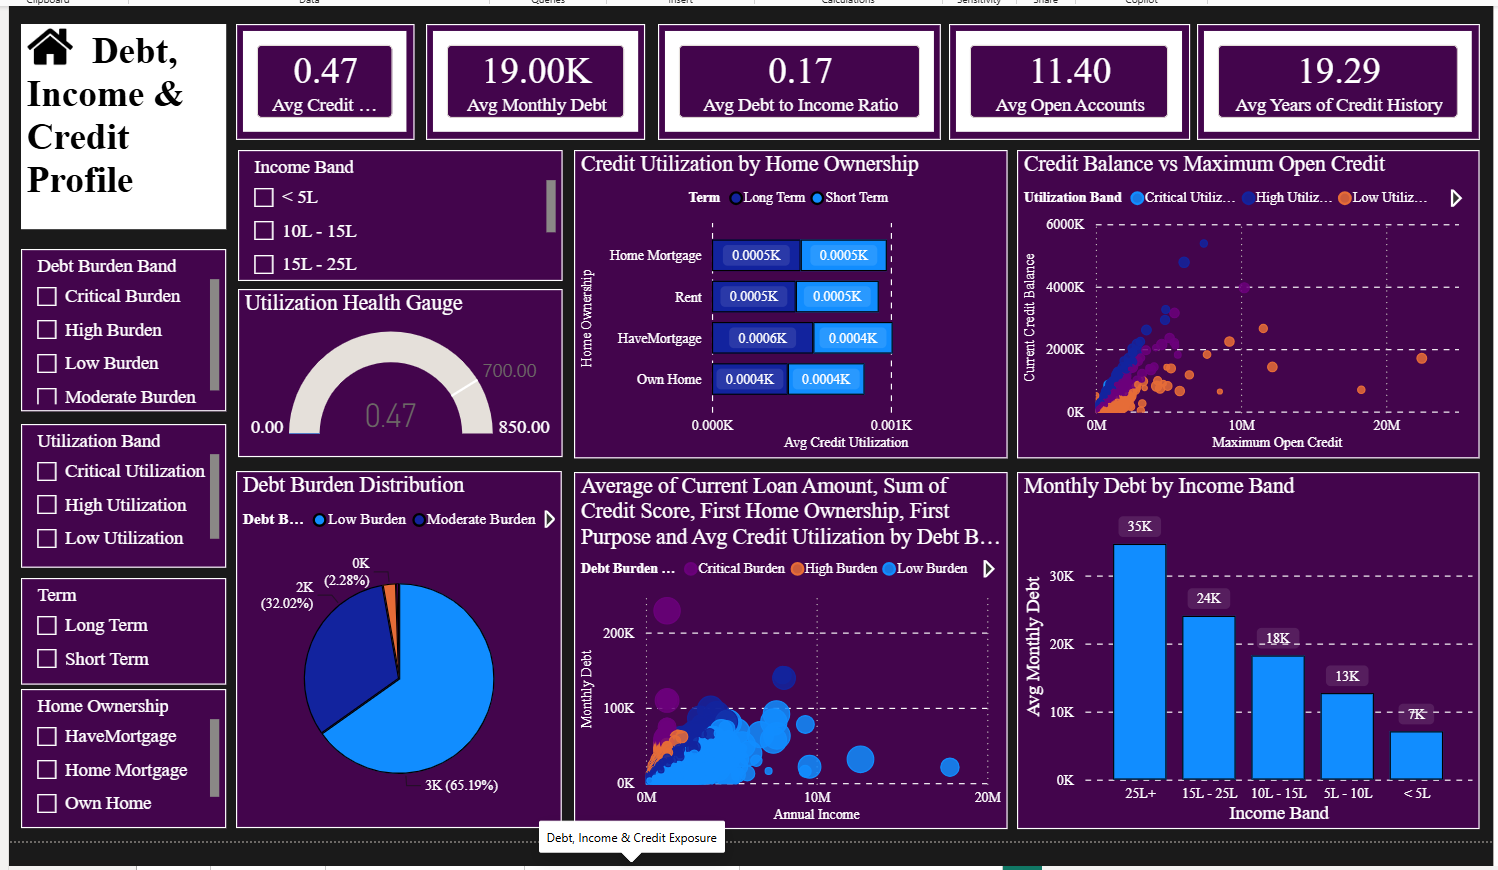

Layout of this report page (visuals, bound fields, positions):
{"tool":"powerbi","page":{"name":"Debt, Income & Credit Exposure","canvas":[1280,720],"ordinal":3},"visuals":[{"type":"cardVisual","fields":{"Data":["credit_test.Avg Monthly Debt"]},"box":[360,15.2,189.3,99.7],"z":0},{"type":"cardVisual","fields":{"Data":["credit_test.Avg Debt to Income Ratio"]},"box":[559.4,15.2,244.2,99.7],"z":1000},{"type":"slicer","fields":{"Values":["credit_test.Term"]},"box":[10.4,493.6,177.5,92],"z":2000},{"type":"slicer","fields":{"Values":["credit_test.Debt Burden Band"]},"box":[10.4,209.9,177.5,139.9],"z":3000},{"type":"slicer","fields":{"Values":["credit_test.Utilization Band"]},"box":[10.4,360.2,177.5,124.4],"z":4000},{"type":"slicer","fields":{"Values":["credit_test.Income Band"]},"box":[197.7,124.2,279.7,113.2],"z":5000},{"type":"clusteredColumnChart","title":"Monthly Debt by Income Band","fields":{"Y":["credit_test.Avg Monthly Debt"],"Category":["credit_test.Income Band"]},"box":[869.3,401.6,399,308.3],"z":6000},{"type":"barChart","title":"Credit Utilization by Home Ownership","fields":{"Category":["credit_test.Home Ownership"],"Y":["credit_test.Avg Credit Utilization"],"Series":["credit_test.Term"]},"box":[487.1,124.4,374.4,265.6],"z":7000},{"type":"scatterChart","fields":{"X":["credit_test.Annual Income"],"Y":["credit_test.Monthly Debt"],"Series":["credit_test.Debt Burden Band"],"Size":["Avg(credit_test.Current Loan Amount)"]},"box":[487.1,401.6,374.4,308.3],"z":8000},{"type":"scatterChart","title":"Credit Balance vs Maximum Open Credit","fields":{"X":["credit_test.Maximum Open Credit"],"Y":["credit_test.Current Credit Balance"],"Series":["credit_test.Utilization Band"],"Size":["Sum(credit_test.Current Loan Amount)"]},"box":[869.3,124.4,399,265.6],"z":9000},{"type":"cardVisual","fields":{"Data":["credit_test.Avg Open Accounts"]},"box":[810.4,15.2,207.9,99.7],"z":10000},{"type":"cardVisual","fields":{"Data":["credit_test.Avg Years of Credit History"]},"box":[1024.8,15.5,243.6,99.8],"z":11000},{"type":"pieChart","title":"Debt Burden Distribution","fields":{"Category":["credit_test.Debt Burden Band"],"Y":["credit_test.Loan Count"]},"box":[196.1,401.4,281.4,308.5],"z":12000},{"type":"gauge","title":"Utilization Health Gauge","fields":{"Y":["credit_test.Avg Credit Utilization"]},"box":[197.7,244.2,279.7,145.4],"z":13000},{"type":"slicer","fields":{"Values":["credit_test.Home Ownership"]},"box":[10.4,589.5,177.5,120.5],"z":14000},{"type":"cardVisual","fields":{"Data":["credit_test.Avg Credit Utilization"]},"box":[196.1,15.2,153.8,99.7],"z":15000},{"type":"textbox","box":[10.1,15.2,177.5,176.6],"z":17000},{"type":"image","box":[0,15.2,71.8,38.9],"z":17500}]}

Visuals, with their boxes on the page's 1280x720 design canvas (x1, y1, x2, y2). These are canvas units, not pixel positions in the 1498x870 screenshot, which may show the page scaled, cropped or inside an application window:
cardVisual - credit_test.Avg Monthly Debt: bbox=(360, 15, 549, 115)
cardVisual - credit_test.Avg Debt to Income Ratio: bbox=(559, 15, 804, 115)
slicer - credit_test.Term: bbox=(10, 494, 188, 586)
slicer - credit_test.Debt Burden Band: bbox=(10, 210, 188, 350)
slicer - credit_test.Utilization Band: bbox=(10, 360, 188, 485)
slicer - credit_test.Income Band: bbox=(198, 124, 477, 237)
"Monthly Debt by Income Band" clusteredColumnChart: bbox=(869, 402, 1268, 710)
"Credit Utilization by Home Ownership" barChart: bbox=(487, 124, 862, 390)
scatterChart - credit_test.Annual Income x credit_test.Monthly Debt: bbox=(487, 402, 862, 710)
"Credit Balance vs Maximum Open Credit" scatterChart: bbox=(869, 124, 1268, 390)
cardVisual - credit_test.Avg Open Accounts: bbox=(810, 15, 1018, 115)
cardVisual - credit_test.Avg Years of Credit History: bbox=(1025, 16, 1268, 115)
"Debt Burden Distribution" pieChart: bbox=(196, 401, 478, 710)
"Utilization Health Gauge" gauge: bbox=(198, 244, 477, 390)
slicer - credit_test.Home Ownership: bbox=(10, 590, 188, 710)
cardVisual - credit_test.Avg Credit Utilization: bbox=(196, 15, 350, 115)
textbox: bbox=(10, 15, 188, 192)
image: bbox=(0, 15, 72, 54)
